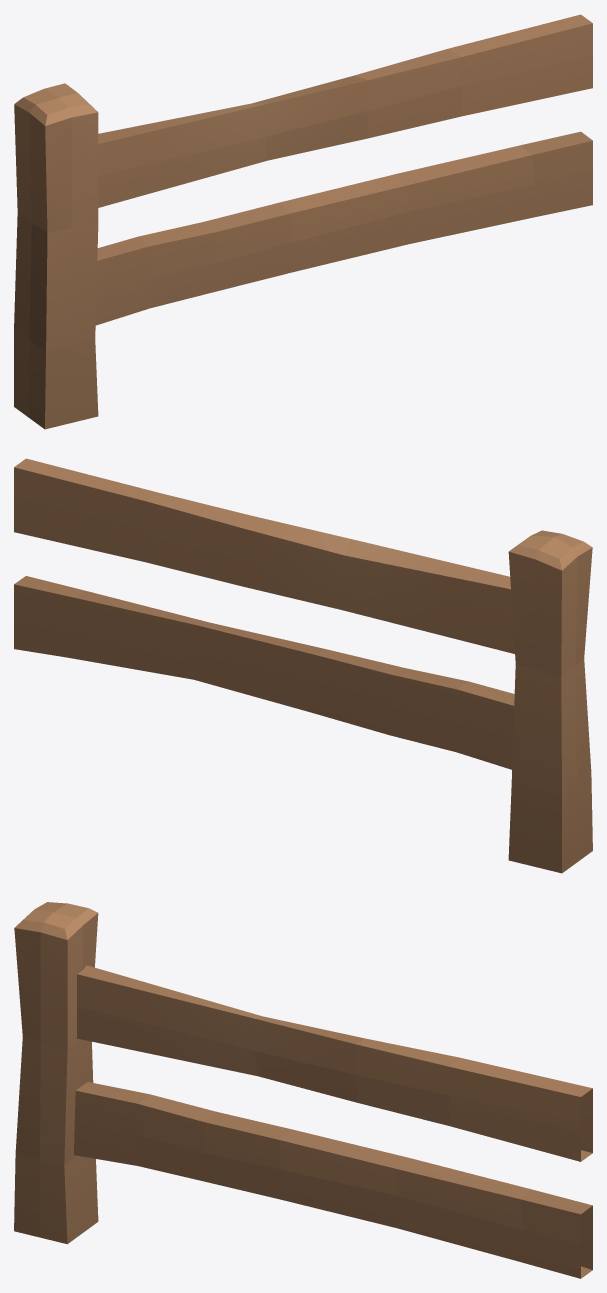
File: untreated fence left.fbx
3 views of the same model, one above another, from view 1: azimuth 30°, elevation 25°; view 2: azimuth 150°, elevation 25°; view 3: azimuth 330°, elevation 25° (orthographic).
Parts seen in each view (by area): view 1: untreated fence left; view 2: untreated fence left; view 3: untreated fence left.
Boxes of the visible parts, x1=… form: untreated fence left: x1=14, y1=14, x2=592, y2=429; untreated fence left: x1=14, y1=458, x2=592, y2=873; untreated fence left: x1=14, y1=902, x2=592, y2=1278.
Bounding box in the file's own units: 272 × 147 × 26.7.
